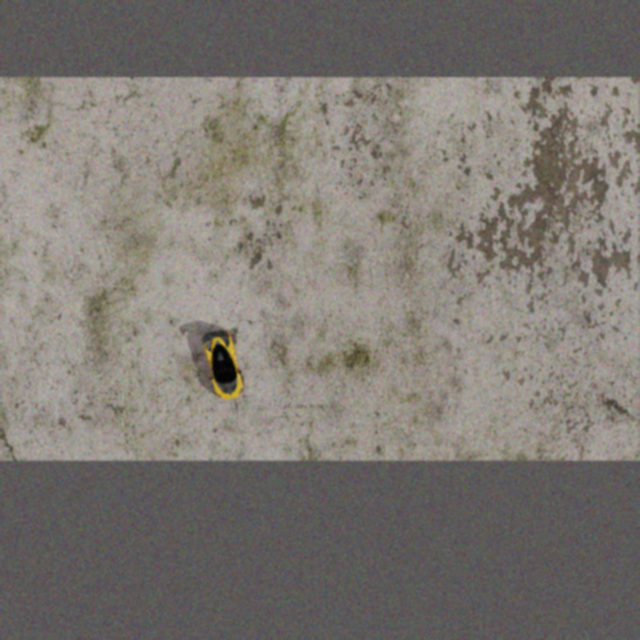car: (198, 326, 248, 406)
